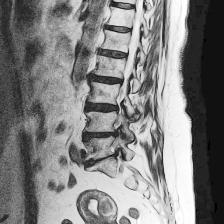disc: (94, 44, 132, 62), (100, 21, 134, 37), (108, 0, 136, 13)
hdisc: (86, 69, 129, 93), (76, 127, 125, 144), (82, 98, 122, 118)
